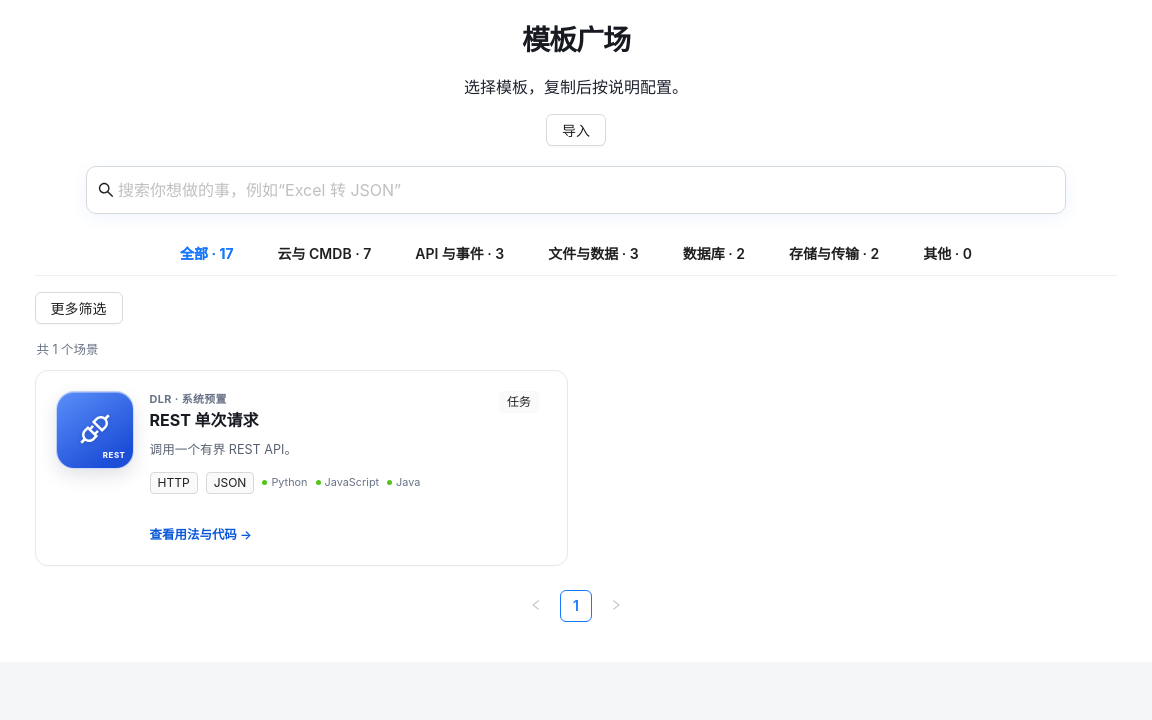
debounces search and prevents an older response from replacing the newest result
In the field named "搜索模板": [578, 190] box [118,174,1038,206], type "old"
Wait 251 ms
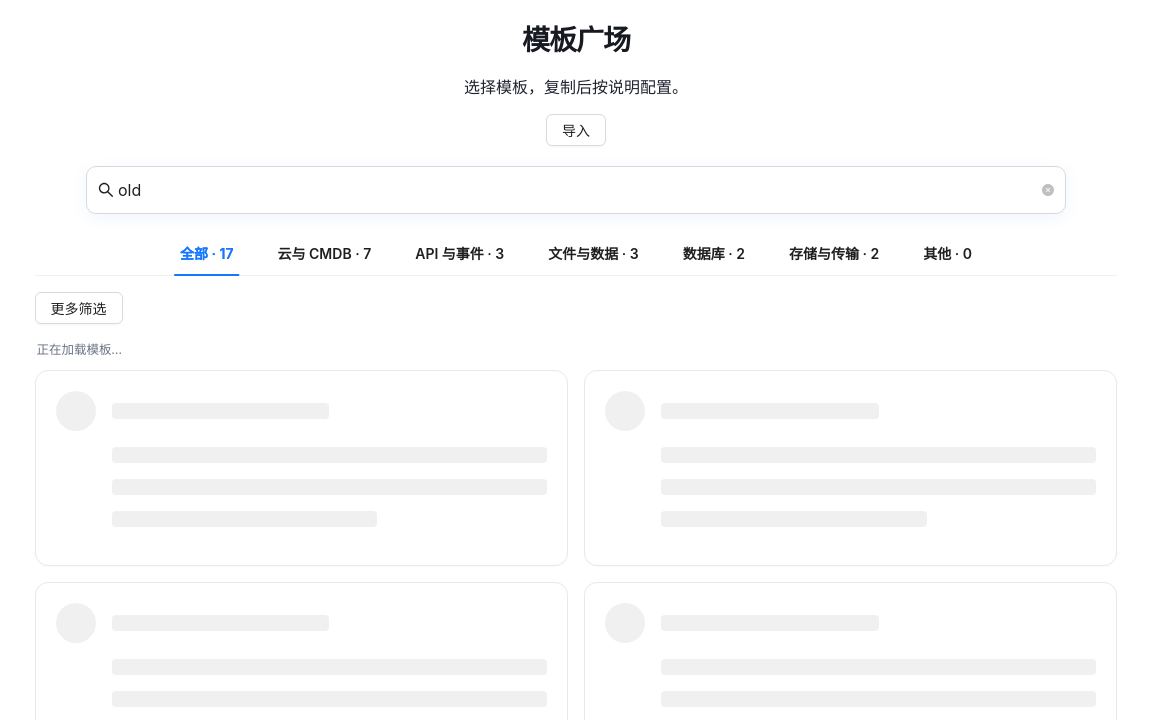
Replace the text in the field named "搜索模板" with "new": [578, 190] box [118,174,1038,206]
Wait 251 ms
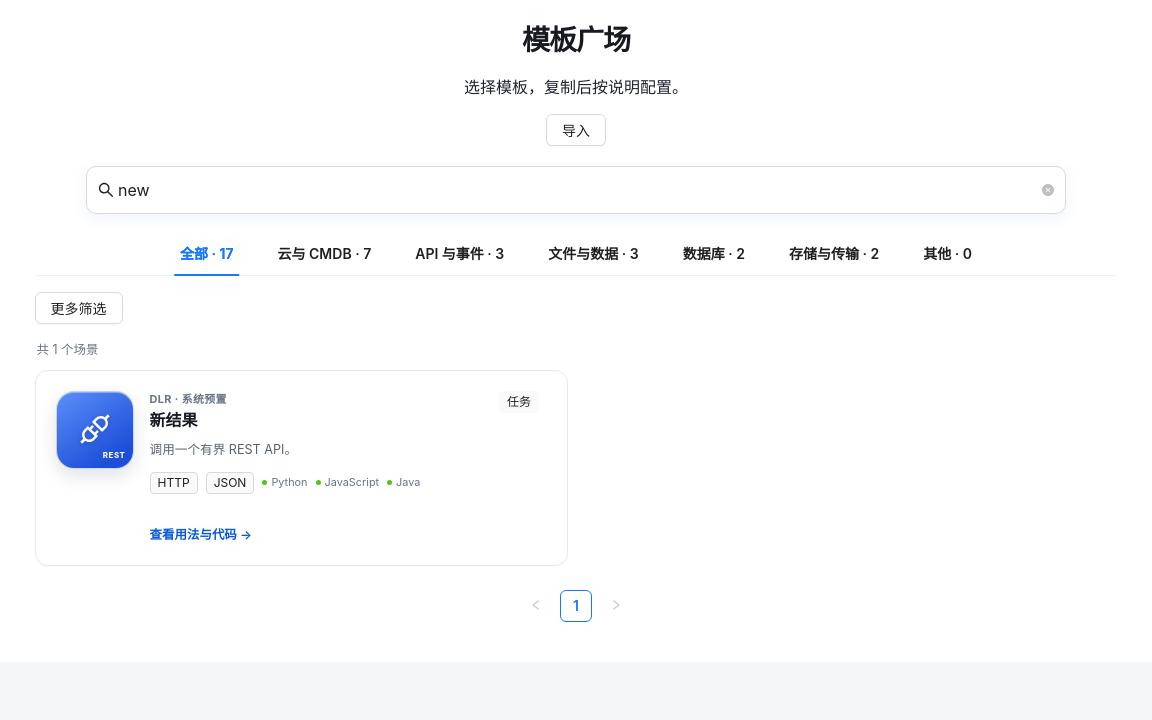
Expected: the heading "新结果" is shown, [150,410,198,430]
